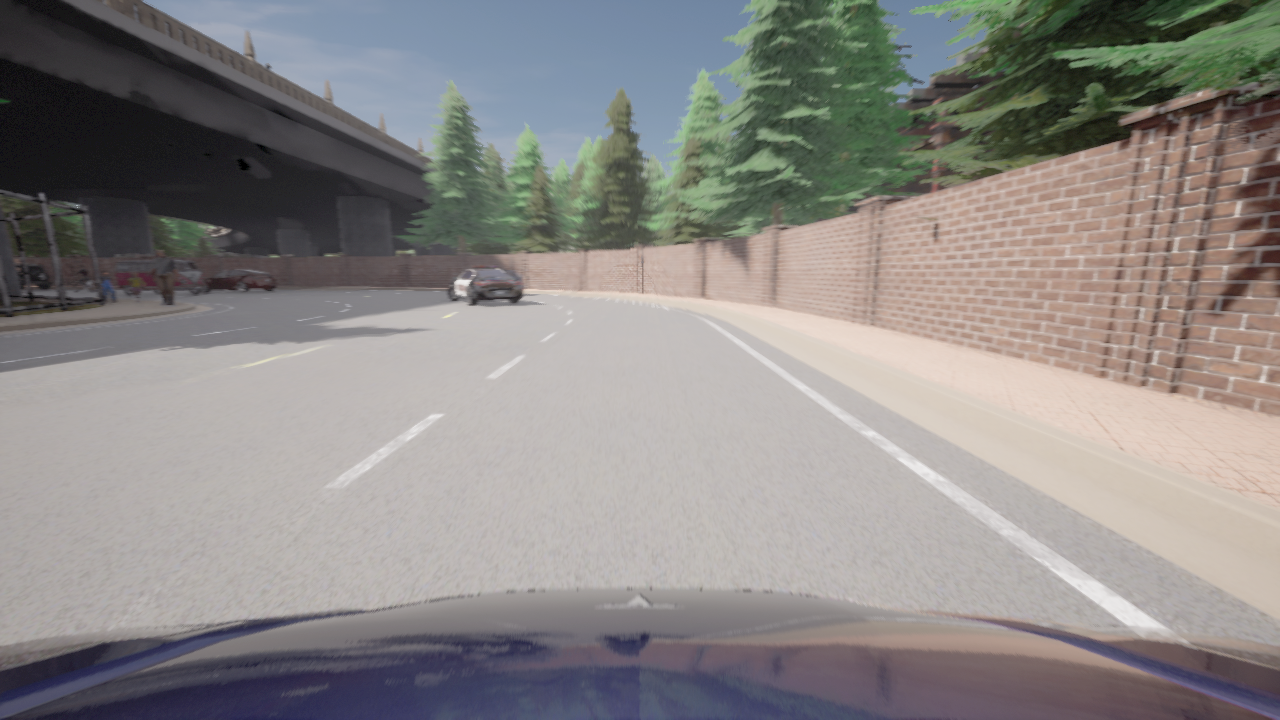cyclist: (0, 588, 1279, 719), (115, 259, 206, 294), (449, 265, 523, 304), (201, 269, 277, 292), (15, 264, 52, 289), (70, 276, 96, 290), (500, 269, 522, 284)
pedestrian: (152, 249, 178, 305), (152, 249, 174, 304), (100, 270, 116, 301), (128, 272, 144, 302)
